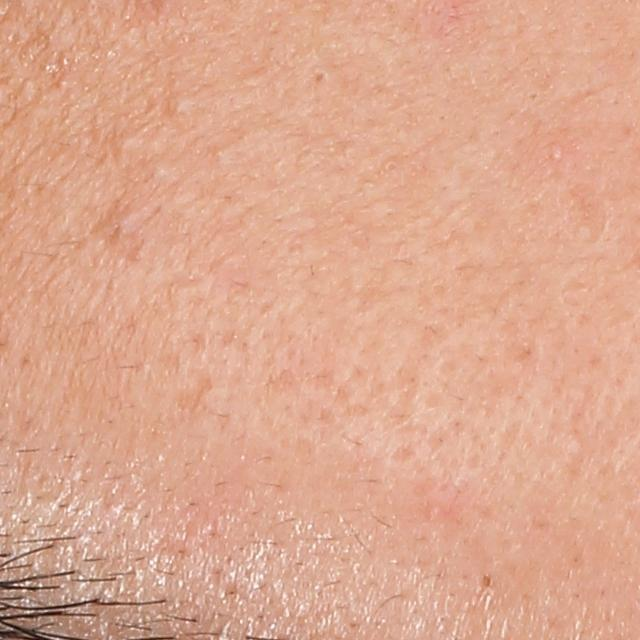atrophic_scar: (562, 191, 610, 240)
comedo: (165, 87, 192, 116), (113, 210, 139, 237), (110, 131, 138, 155), (210, 146, 231, 163), (546, 145, 565, 161), (312, 70, 325, 87)
